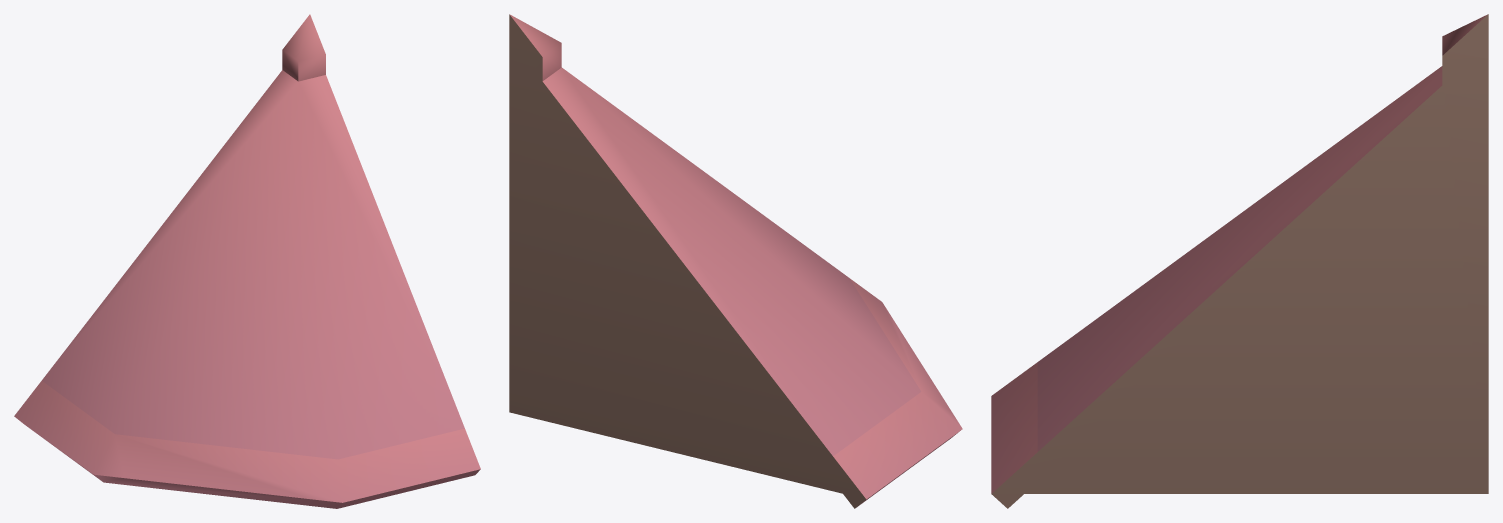
Rendered from roof-high-corner-round.glb.
The picture shows the model from 3 angles, left to right: view 1: azimuth 30°, elevation 25°; view 2: azimuth 150°, elevation 25°; view 3: azimuth 270°, elevation 25°; orthographic projection. The views are drawn at different scales.
Parts seen in each view (by area): view 1: roof-high-corner-round; view 2: roof-high-corner-round; view 3: roof-high-corner-round.
Part boxes in pixels (x1,y1,x2,y2): roof-high-corner-round: [14, 14, 480, 508]; roof-high-corner-round: [509, 14, 962, 508]; roof-high-corner-round: [991, 14, 1488, 508].
Bounding box in the file's own units: 1.07 × 1.18 × 1.07.
